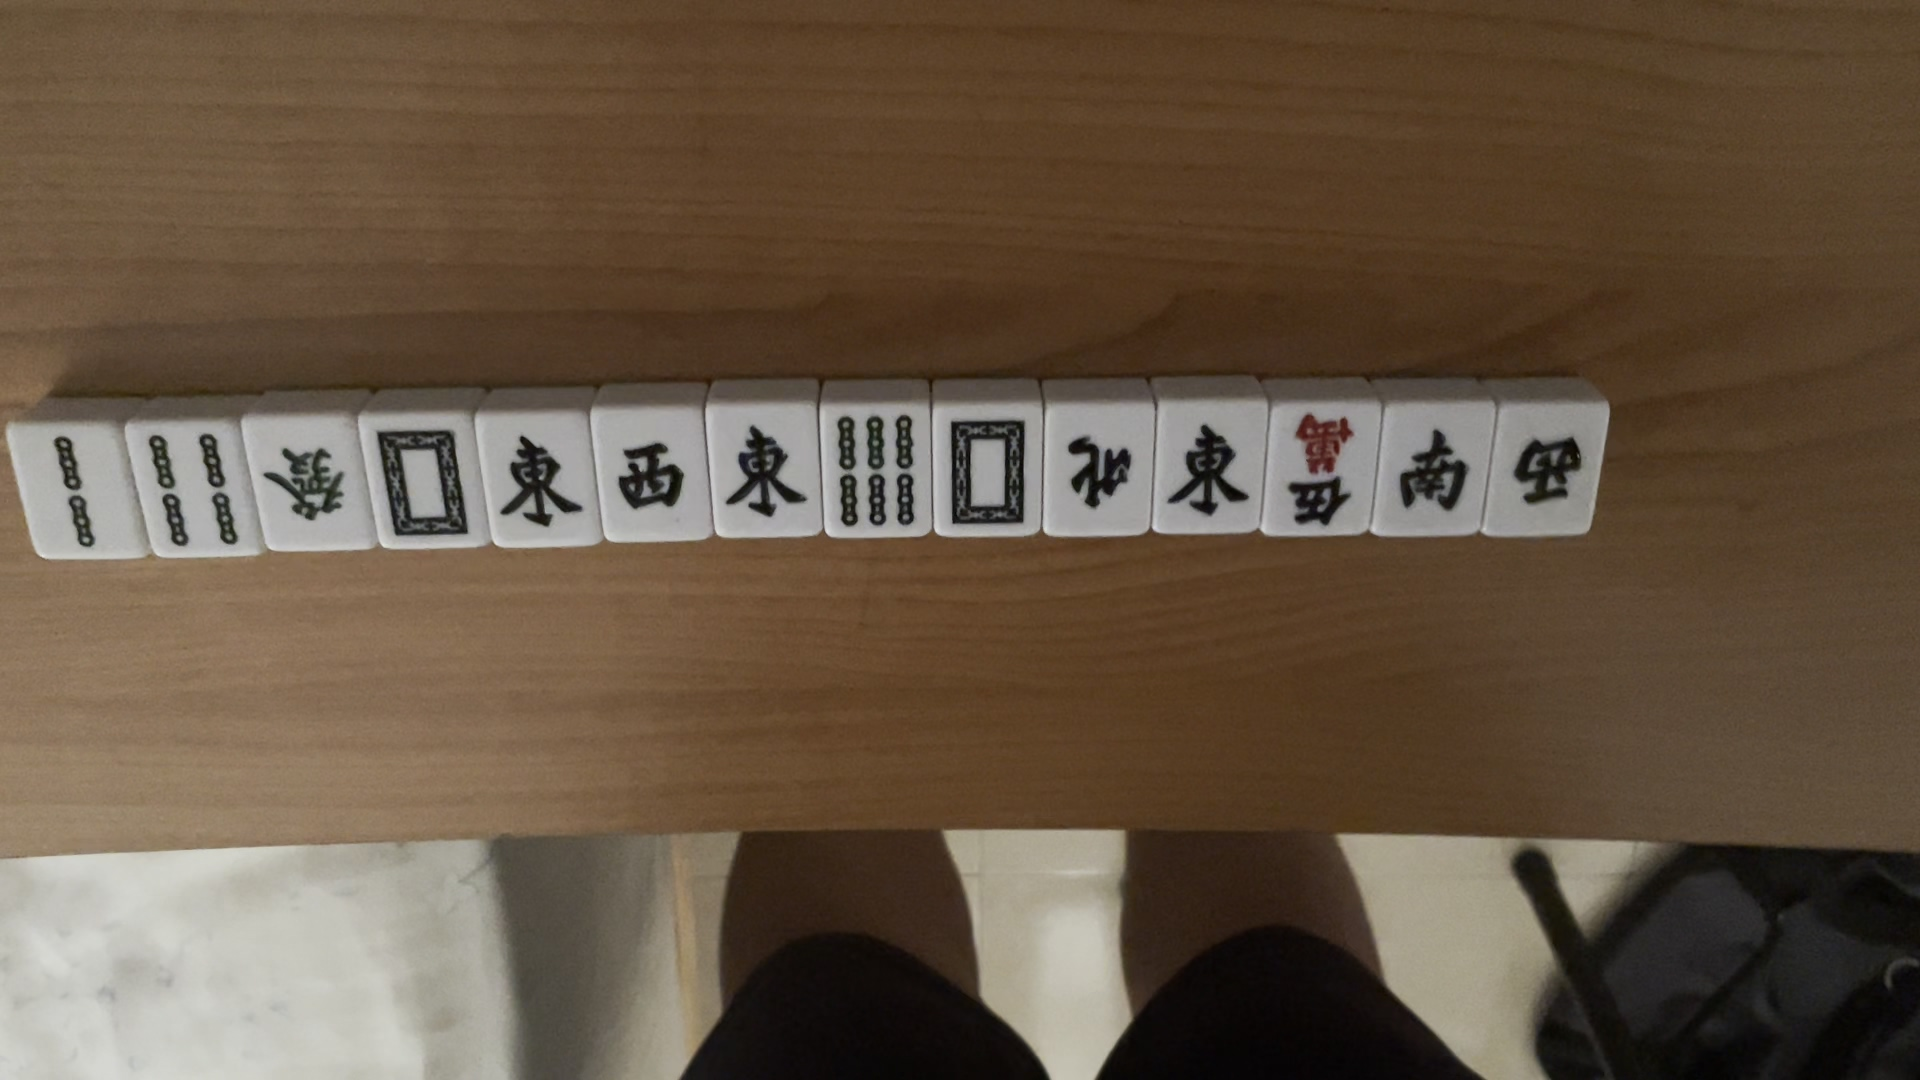b-2: (40, 429, 112, 556)
b-4: (138, 429, 243, 550)
b-6: (832, 406, 923, 531)
c-5: (1278, 402, 1367, 527)
honors-east: (1160, 411, 1251, 527), (495, 425, 585, 537), (723, 418, 814, 530)
honors-green: (255, 444, 352, 534)
honors-north: (1055, 418, 1142, 521)
honors-south: (1389, 425, 1477, 527)
honors-west: (1513, 429, 1589, 520), (609, 435, 690, 517)
honors-white: (373, 422, 477, 541), (938, 414, 1033, 533)
